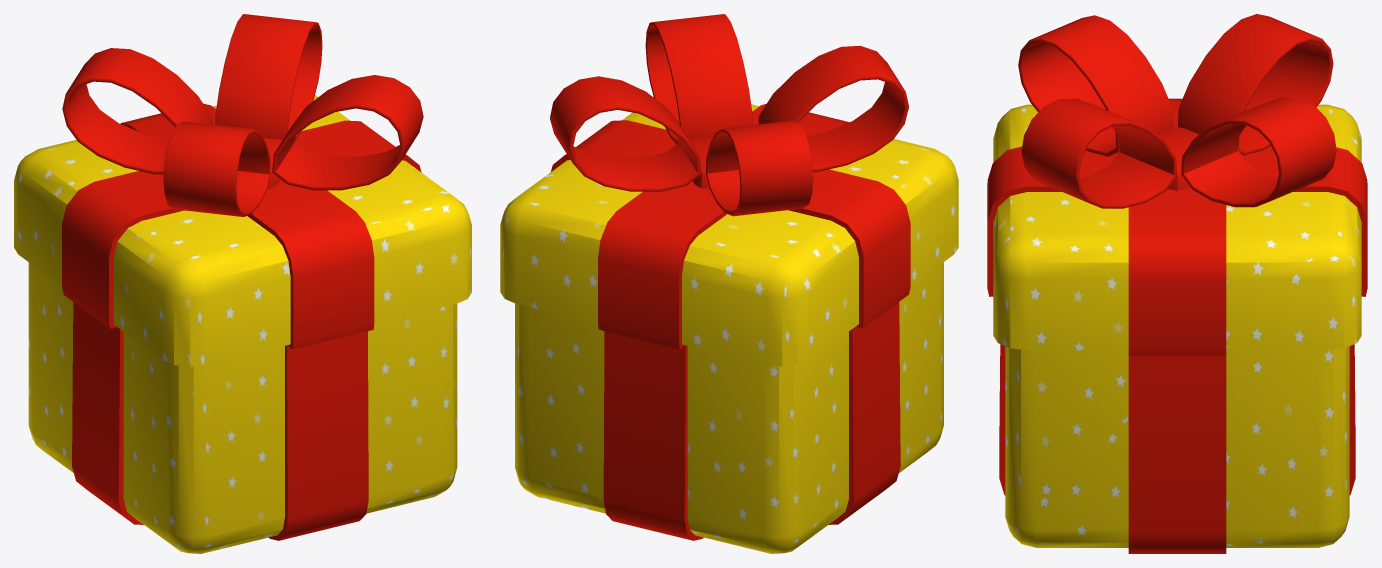
The model's file is gift_box2.fbx.
3 renders of one model, left to right at view 1: azimuth 30°, elevation 25°; view 2: azimuth 150°, elevation 25°; view 3: azimuth 270°, elevation 25°, orthographic. The views are drawn at different scales.
Parts seen in each view (by area): view 1: Gift_box 3; view 2: Gift_box 3; view 3: Gift_box 3.
Part boxes in pixels (box(x1,y1,x2,y2)): Gift_box 3: box(14, 14, 471, 553); Gift_box 3: box(500, 14, 958, 553); Gift_box 3: box(987, 14, 1367, 553).
Size of the model in its own units: 206 by 252 by 206.
2 materials, 1 textured.
